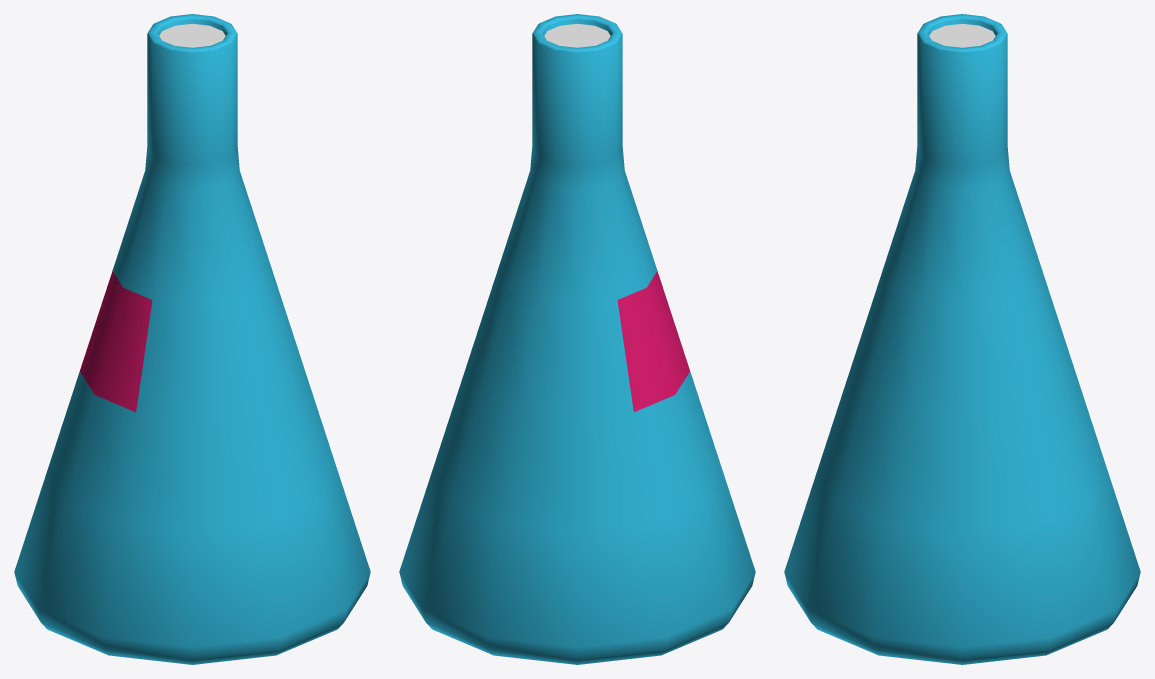
The model's file is ConicalFlask_labeled.fbx.
3 renders of one model, left to right at view 1: azimuth 30°, elevation 25°; view 2: azimuth 150°, elevation 25°; view 3: azimuth 270°, elevation 25°, orthographic.
Visible parts, largest first — view 1: ConicalFlask-glass, ConicalFlask-liquid; view 2: ConicalFlask-glass, ConicalFlask-liquid; view 3: ConicalFlask-glass, ConicalFlask-liquid.
Part boxes in pixels (left/top/right/bottom): ConicalFlask-glass: left=14, top=14, right=370, bottom=664; ConicalFlask-liquid: left=159, top=23, right=225, bottom=47; ConicalFlask-glass: left=399, top=14, right=755, bottom=664; ConicalFlask-liquid: left=544, top=23, right=610, bottom=47; ConicalFlask-glass: left=784, top=14, right=1140, bottom=664; ConicalFlask-liquid: left=929, top=23, right=995, bottom=47.
Size of the model in its own units: 14.54 by 25.29 by 14.54.
